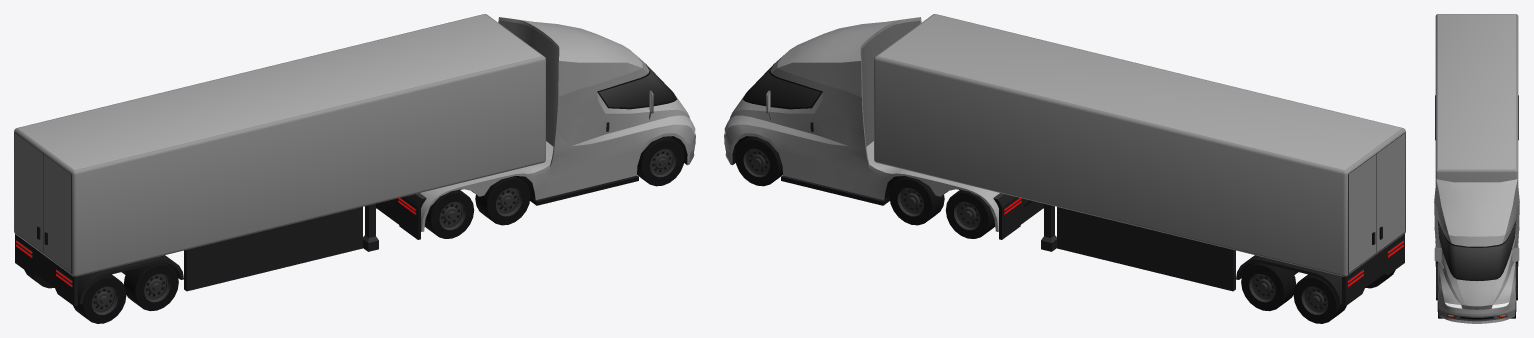
Rendered from Truck_010.glb.
3 renders of one model, left to right at view 1: azimuth 30°, elevation 25°; view 2: azimuth 150°, elevation 25°; view 3: azimuth 270°, elevation 25°, orthographic. The views are drawn at different scales.
Parts seen in each view (by area): view 1: Truck_010, wheel_7_Truck_010_Wheel_4R, wheel_3_Truck_010_Wheel_2R, wheel_1_Truck_010_Wheel_1R, wheel_5_Truck_010_Wheel_3R, wheel_9_Truck_010_Wheel_5R; view 2: Truck_010, wheel_6_Truck_010_Wheel_4L, wheel_2_Truck_010_Wheel_2L, wheel_0_Truck_010_Wheel_1L, wheel_4_Truck_010_Wheel_3L, wheel_8_Truck_010_Wheel_5L; view 3: Truck_010.
Part boxes in pixels (<box>): Truck_010: <box>14,14,695,306</box>; wheel_7_Truck_010_Wheel_4R: <box>123,262,178,311</box>; wheel_3_Truck_010_Wheel_2R: <box>475,176,530,225</box>; wheel_1_Truck_010_Wheel_1R: <box>637,136,684,186</box>; wheel_5_Truck_010_Wheel_3R: <box>424,189,474,238</box>; wheel_9_Truck_010_Wheel_5R: <box>73,274,126,323</box>; Truck_010: <box>724,14,1405,306</box>; wheel_6_Truck_010_Wheel_4L: <box>1241,262,1296,311</box>; wheel_2_Truck_010_Wheel_2L: <box>889,176,944,225</box>; wheel_0_Truck_010_Wheel_1L: <box>735,136,782,186</box>; wheel_4_Truck_010_Wheel_3L: <box>945,189,995,238</box>; wheel_8_Truck_010_Wheel_5L: <box>1293,274,1346,323</box>; Truck_010: <box>1434,14,1519,323</box>.
Size of the model in its own units: 14.5 by 3.43 by 2.46.
2 materials, 2 textured.
